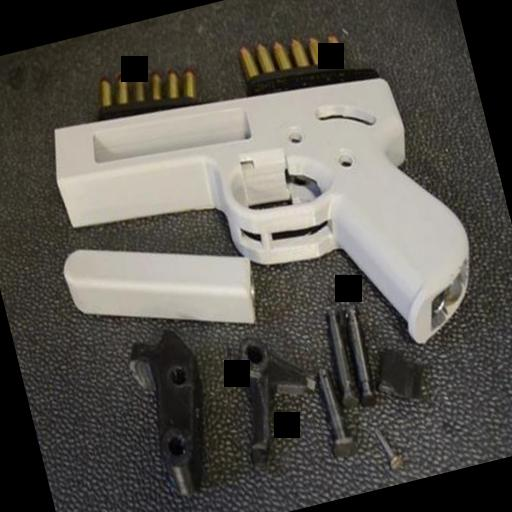Handgun: (34, 24, 490, 424)
